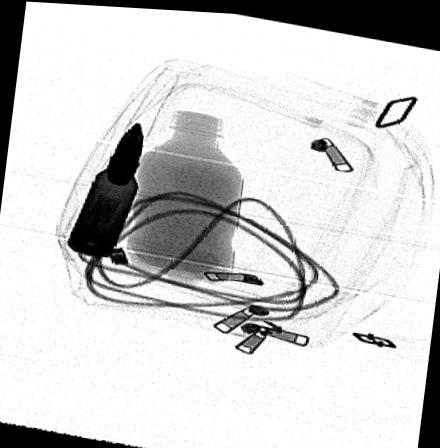Bullet: (65, 117, 146, 258)
